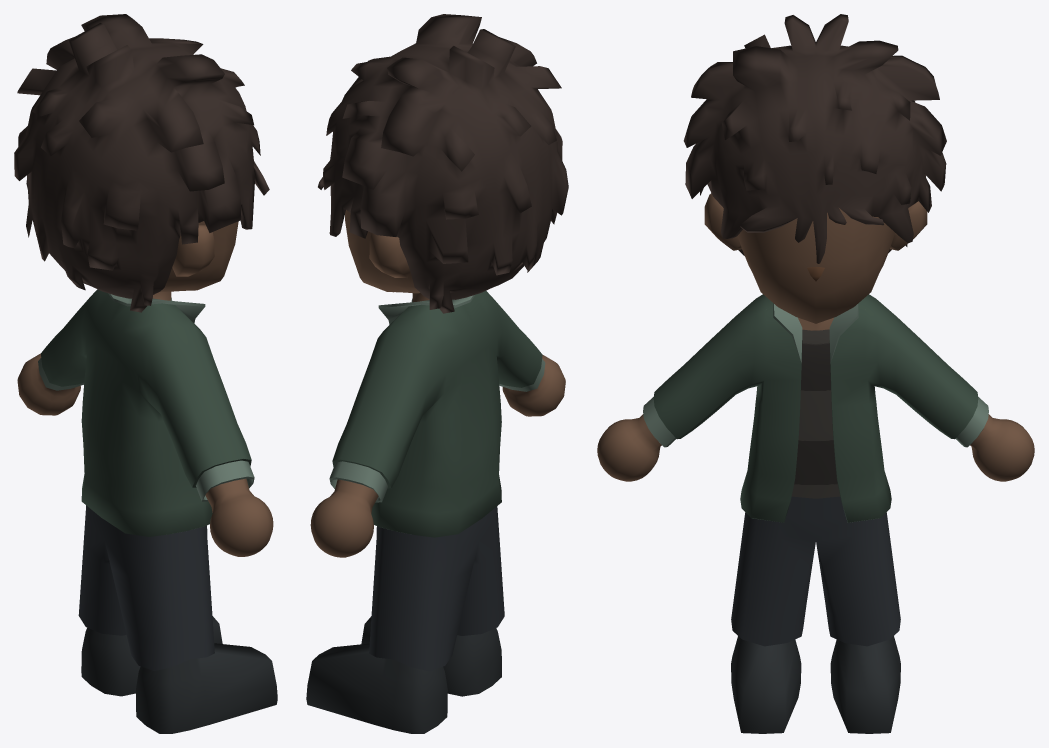
Rendered from Darry_New.fbx.
3 views of the same model, side by side, from view 1: azimuth 30°, elevation 25°; view 2: azimuth 150°, elevation 25°; view 3: azimuth 270°, elevation 25° (orthographic). The views are drawn at different scales.
Parts seen in each view (by area): view 1: Darry, Jacket.001; view 2: Darry, Jacket.001; view 3: Darry, Jacket.001.
Part boxes in pixels (x1=…): Darry: x1=14, y1=14, x2=277, y2=733; Jacket.001: x1=38, y1=289, x2=254, y2=536; Darry: x1=306, y1=14, x2=568, y2=733; Jacket.001: x1=329, y1=291, x2=545, y2=537; Darry: x1=597, y1=14, x2=1034, y2=733; Jacket.001: x1=643, y1=294, x2=988, y2=522.
Bounding box in the file's own units: 97.61 × 303 × 183.
2 materials, 2 textured.
